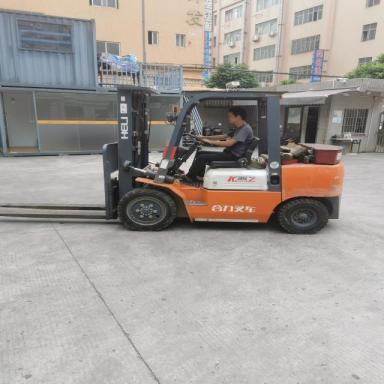forklift: (0, 79, 348, 241)
